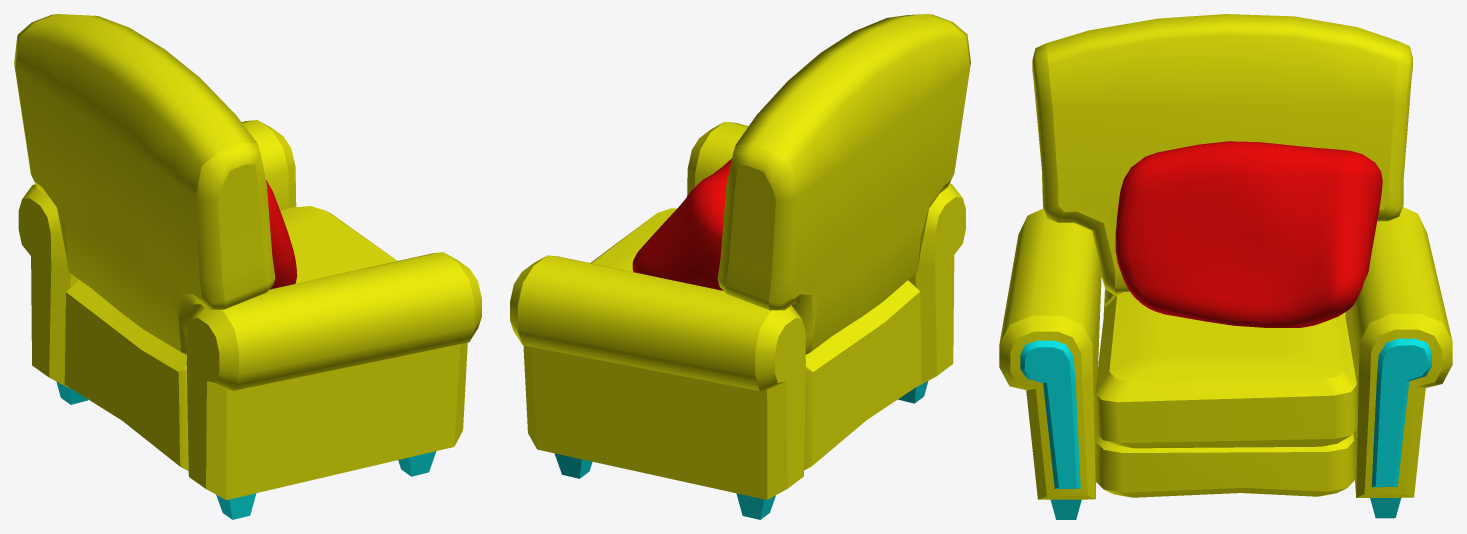
The model's file is LivingRoom_Armchair_2.fbx.
3 renders of one model, left to right at view 1: azimuth 30°, elevation 25°; view 2: azimuth 150°, elevation 25°; view 3: azimuth 270°, elevation 25°, orthographic.
Visible parts, largest first — view 1: LivingRoom_Armchair_2; view 2: LivingRoom_Armchair_2; view 3: LivingRoom_Armchair_2.
Part boxes in pixels (bbox=[...]): LivingRoom_Armchair_2: bbox=[14, 14, 481, 519]; LivingRoom_Armchair_2: bbox=[510, 14, 970, 519]; LivingRoom_Armchair_2: bbox=[999, 14, 1452, 519].
Bounding box in the file's own units: 114 × 155 × 158.
